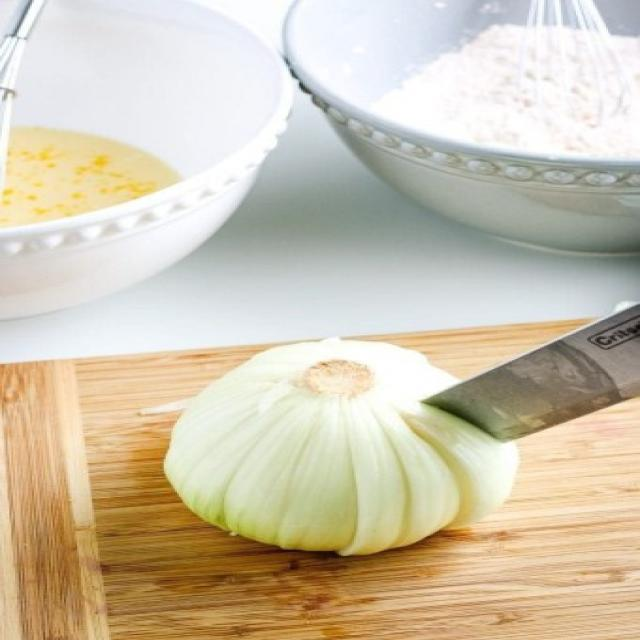Onion: (156, 317, 566, 574)
